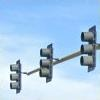traffic lights: (40, 46, 52, 81)
